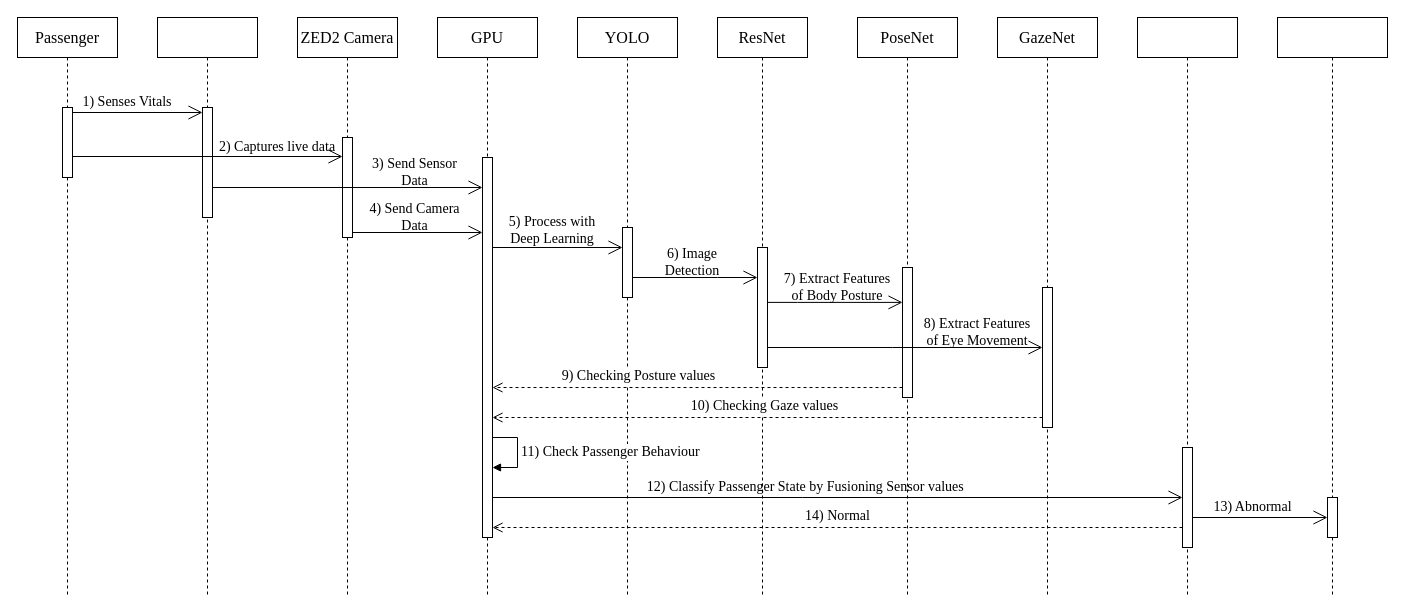
The diagram is 1405 pixels wide and 615 high, and some of its shapes have lost their labels. Here are the shapes that lost their labels. From the top down, the box of each, then its label:
(156, 16, 258, 598): ECG Sensor
(1136, 16, 1238, 598): Passenger State
(1276, 16, 1388, 598): V2X Communication
